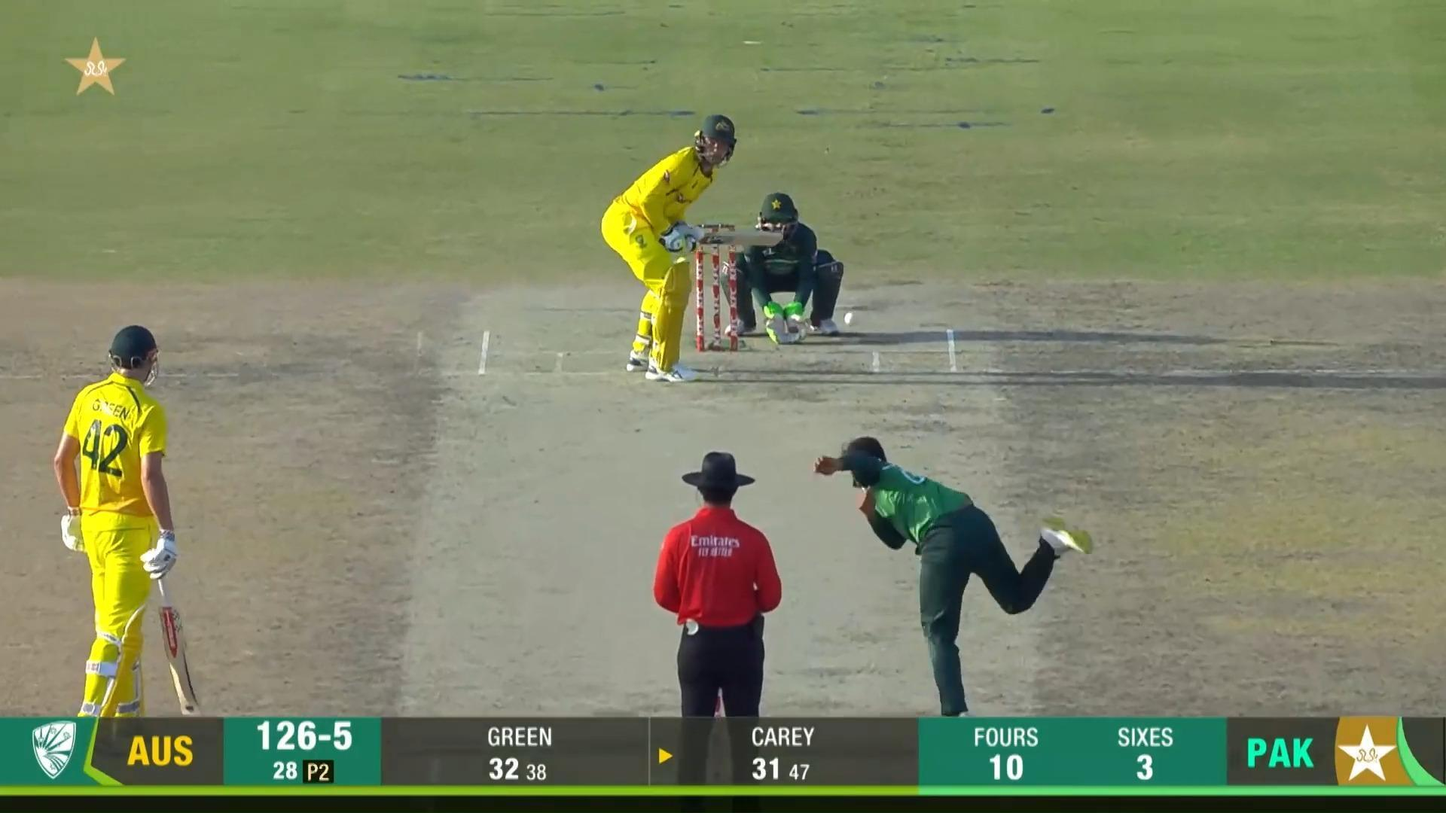BM 1: (601, 113, 784, 382)
BO: (812, 435, 1092, 717)
